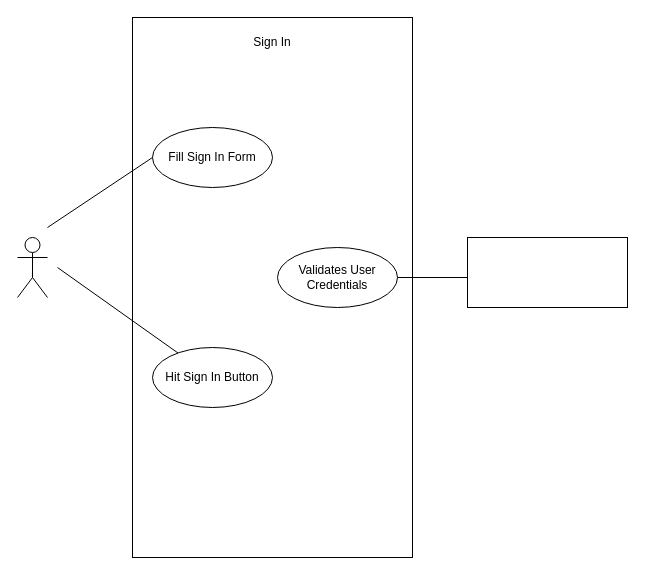
Image size: 645x575. Some labels were removed from this diagram. The shapes that lost their labels are listed below. From the top down, each one's centre as x and y in pixels, then its label:
point (32, 267): User
point (547, 272): <<actor>> Users' Database
